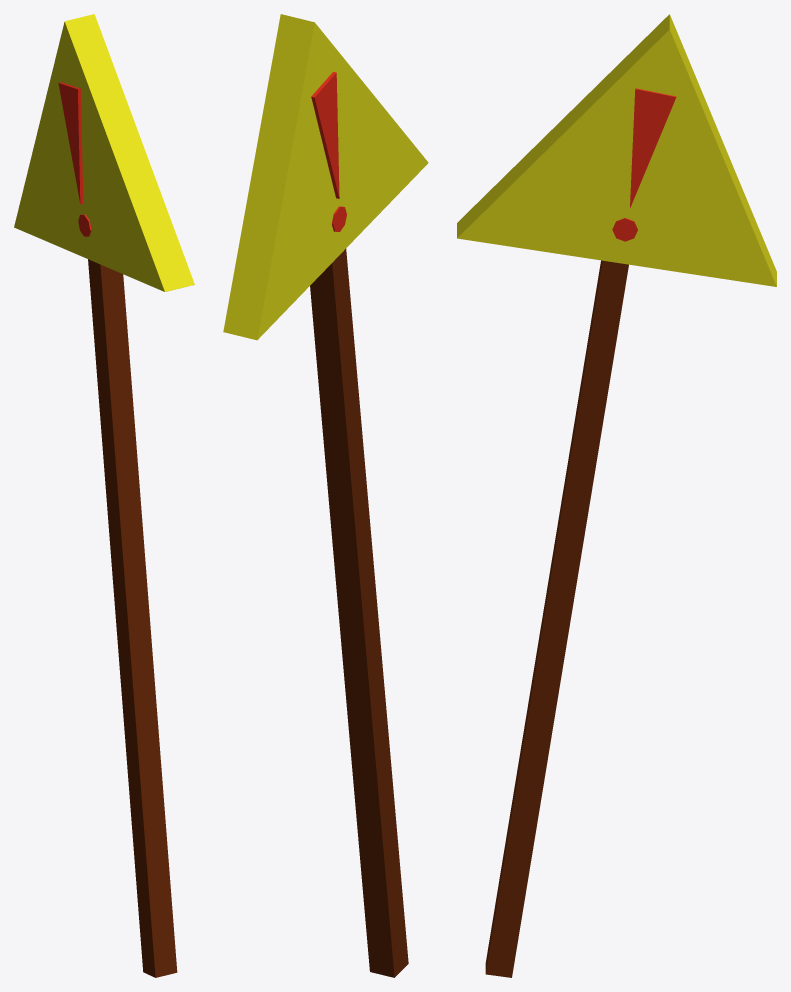
The model's file is sign.fbx.
The picture shows the model from 3 angles, left to right: view 1: azimuth 30°, elevation 25°; view 2: azimuth 150°, elevation 25°; view 3: azimuth 270°, elevation 25°; orthographic projection. The views are drawn at different scales.
Parts seen in each view (by area): view 1: Cube.001, Cube, Cube.002; view 2: Cube.001, Cube, Cube.002; view 3: Cube.001, Cube, Cube.002.
Part boxes in pixels (x1,y1,x2,y2): Cube.001: [14, 14, 194, 291]; Cube: [88, 259, 177, 977]; Cube.002: [58, 82, 83, 204]; Cube.001: [223, 14, 428, 340]; Cube: [310, 248, 408, 977]; Cube.002: [311, 71, 339, 198]; Cube.001: [457, 14, 776, 286]; Cube: [485, 260, 628, 977]; Cube.002: [630, 88, 676, 207].
Size of the model in its own units: 12.9 by 318 by 97.11.
